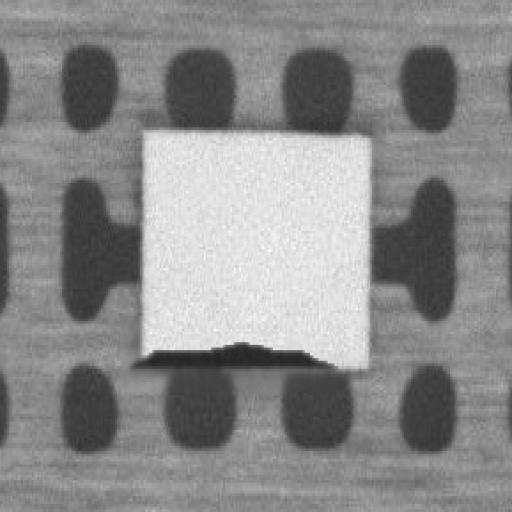DIE_BROKEN: (130, 329, 338, 371)
